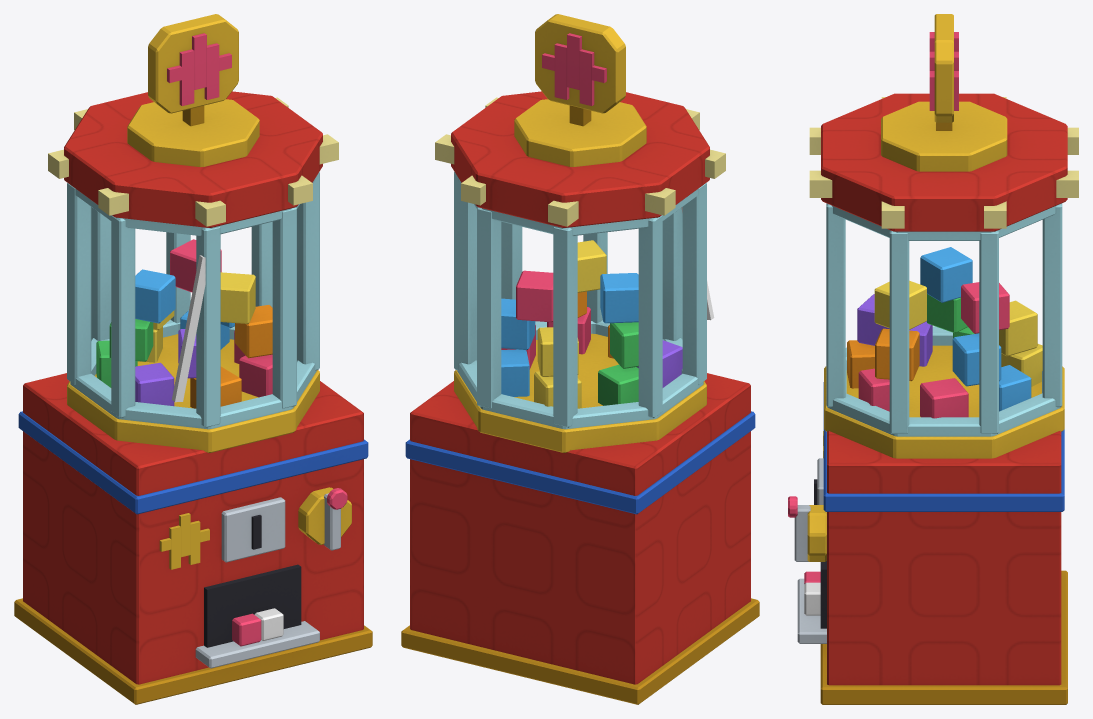
The model's file is PrizeMachine.fbx.
3 renders of one model, left to right at view 1: azimuth 30°, elevation 25°; view 2: azimuth 150°, elevation 25°; view 3: azimuth 270°, elevation 25°, orthographic.
Parts seen in each view (by area): view 1: Art_PrizeMachine; view 2: Art_PrizeMachine; view 3: Art_PrizeMachine.
Part boxes in pixels (bbox=[...]): Art_PrizeMachine: bbox=[14, 14, 372, 704]; Art_PrizeMachine: bbox=[401, 14, 759, 704]; Art_PrizeMachine: bbox=[788, 14, 1078, 704].
Size of the model in its own units: 1.72 by 4.2 by 1.79.
